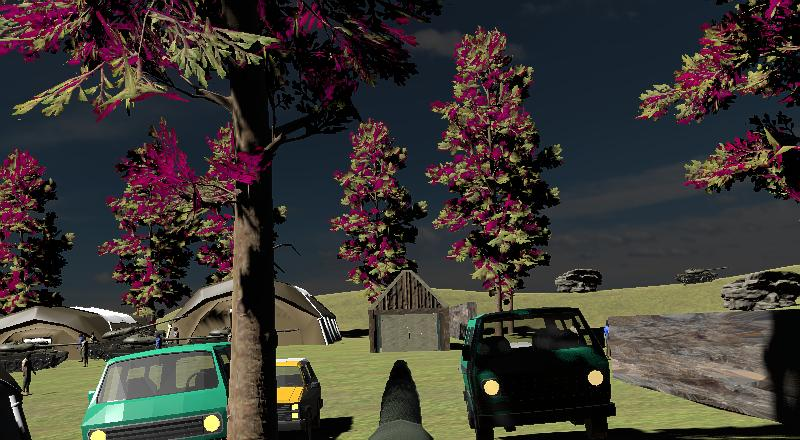Tank: (0, 337, 81, 372)
car: (460, 306, 616, 438), (80, 341, 231, 440)
